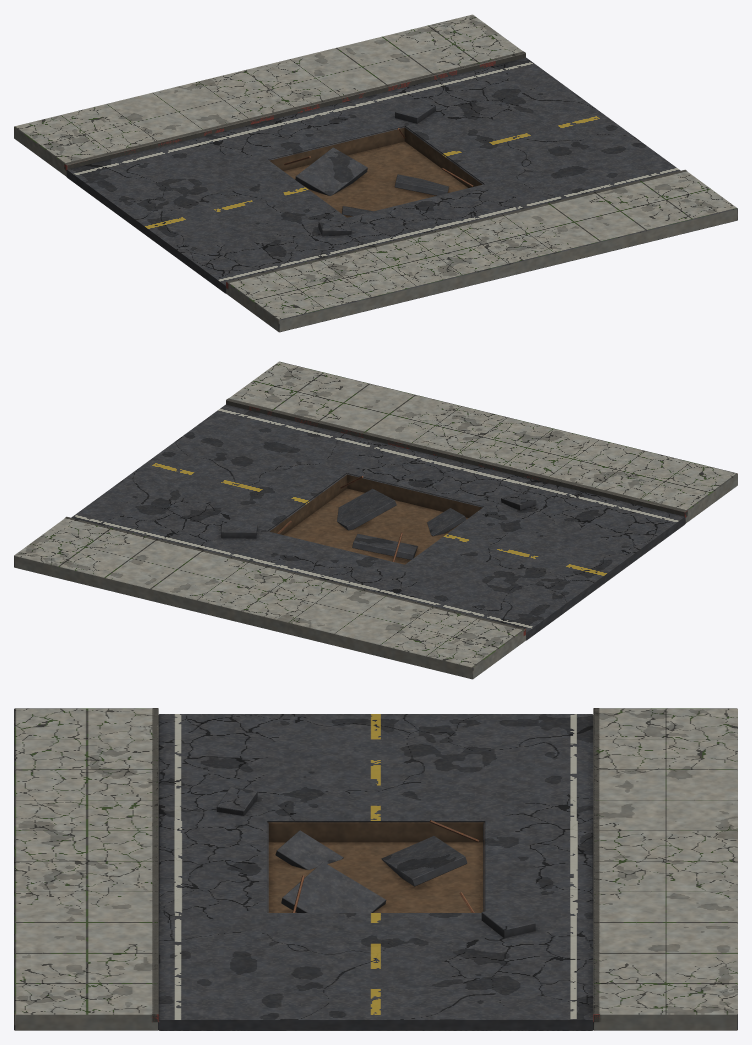
Rendered from Calle_Rota_60.glb.
3 renders of one model, top to bottom at view 1: azimuth 30°, elevation 25°; view 2: azimuth 150°, elevation 25°; view 3: azimuth 270°, elevation 25°, orthographic. The views are drawn at different scales.
Parts seen in each view (by area): view 1: Calle_Rota_60; view 2: Calle_Rota_60; view 3: Calle_Rota_60.
Part boxes in pixels (x1,y1,x2,y2): Calle_Rota_60: (14, 14, 737, 332); Calle_Rota_60: (14, 361, 737, 679); Calle_Rota_60: (14, 708, 737, 1030).
Size of the model in its own units: 60 by 4.81 by 60.
1 material, 1 textured.
